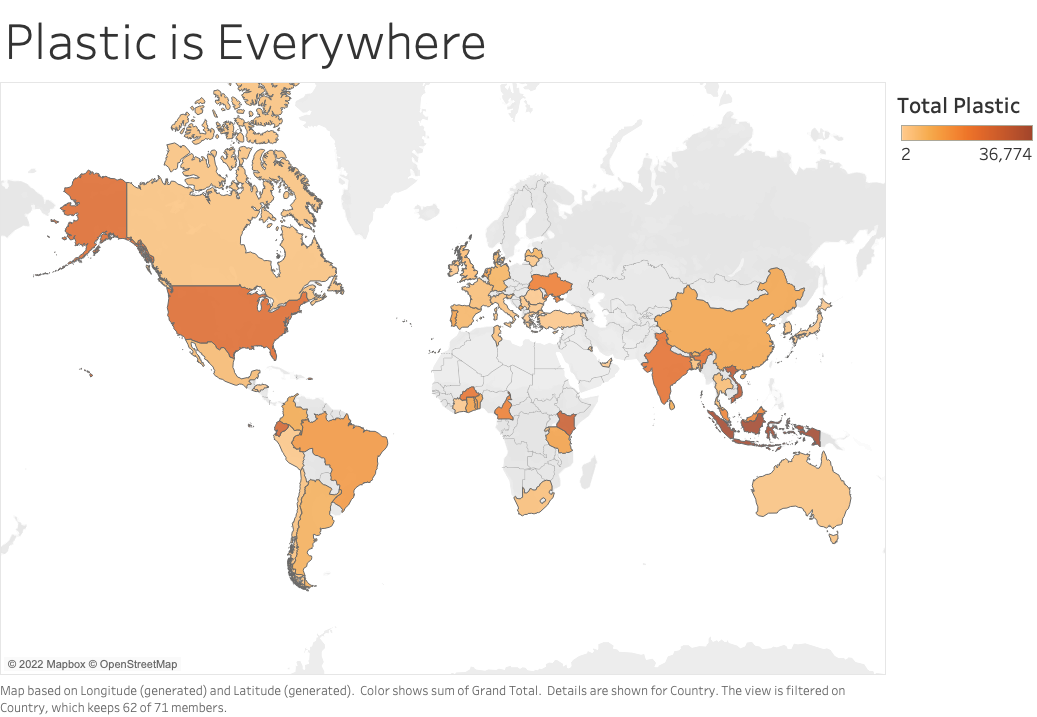

This screenshot's page, from the dashboard's own definition file:
{"tool":"tableau","page":{"name":"Dashboard 5","canvas":[1000,800],"ordinal":3},"visuals":[{"type":"worksheet","title":"Map (Lower)","mark":"Automatic","box":[8,8,824,784]},{"type":"legend","title":"Map (Lower)","param":"[federated.0bekhf81d466km1bd868x01l75tm].[sum:grand_total:qk]","box":[832,8,160,65]}]}

Visuals, with their boxes on the page's 1000x800 design canvas (x1, y1, x2, y2). These are canvas units, not pixel positions in the 1037x717 screenshot, which may show the page scaled, cropped or inside an application window:
"Map (Lower)" worksheet: 8 8 832 792
"Map (Lower)" legend: 832 8 992 73
